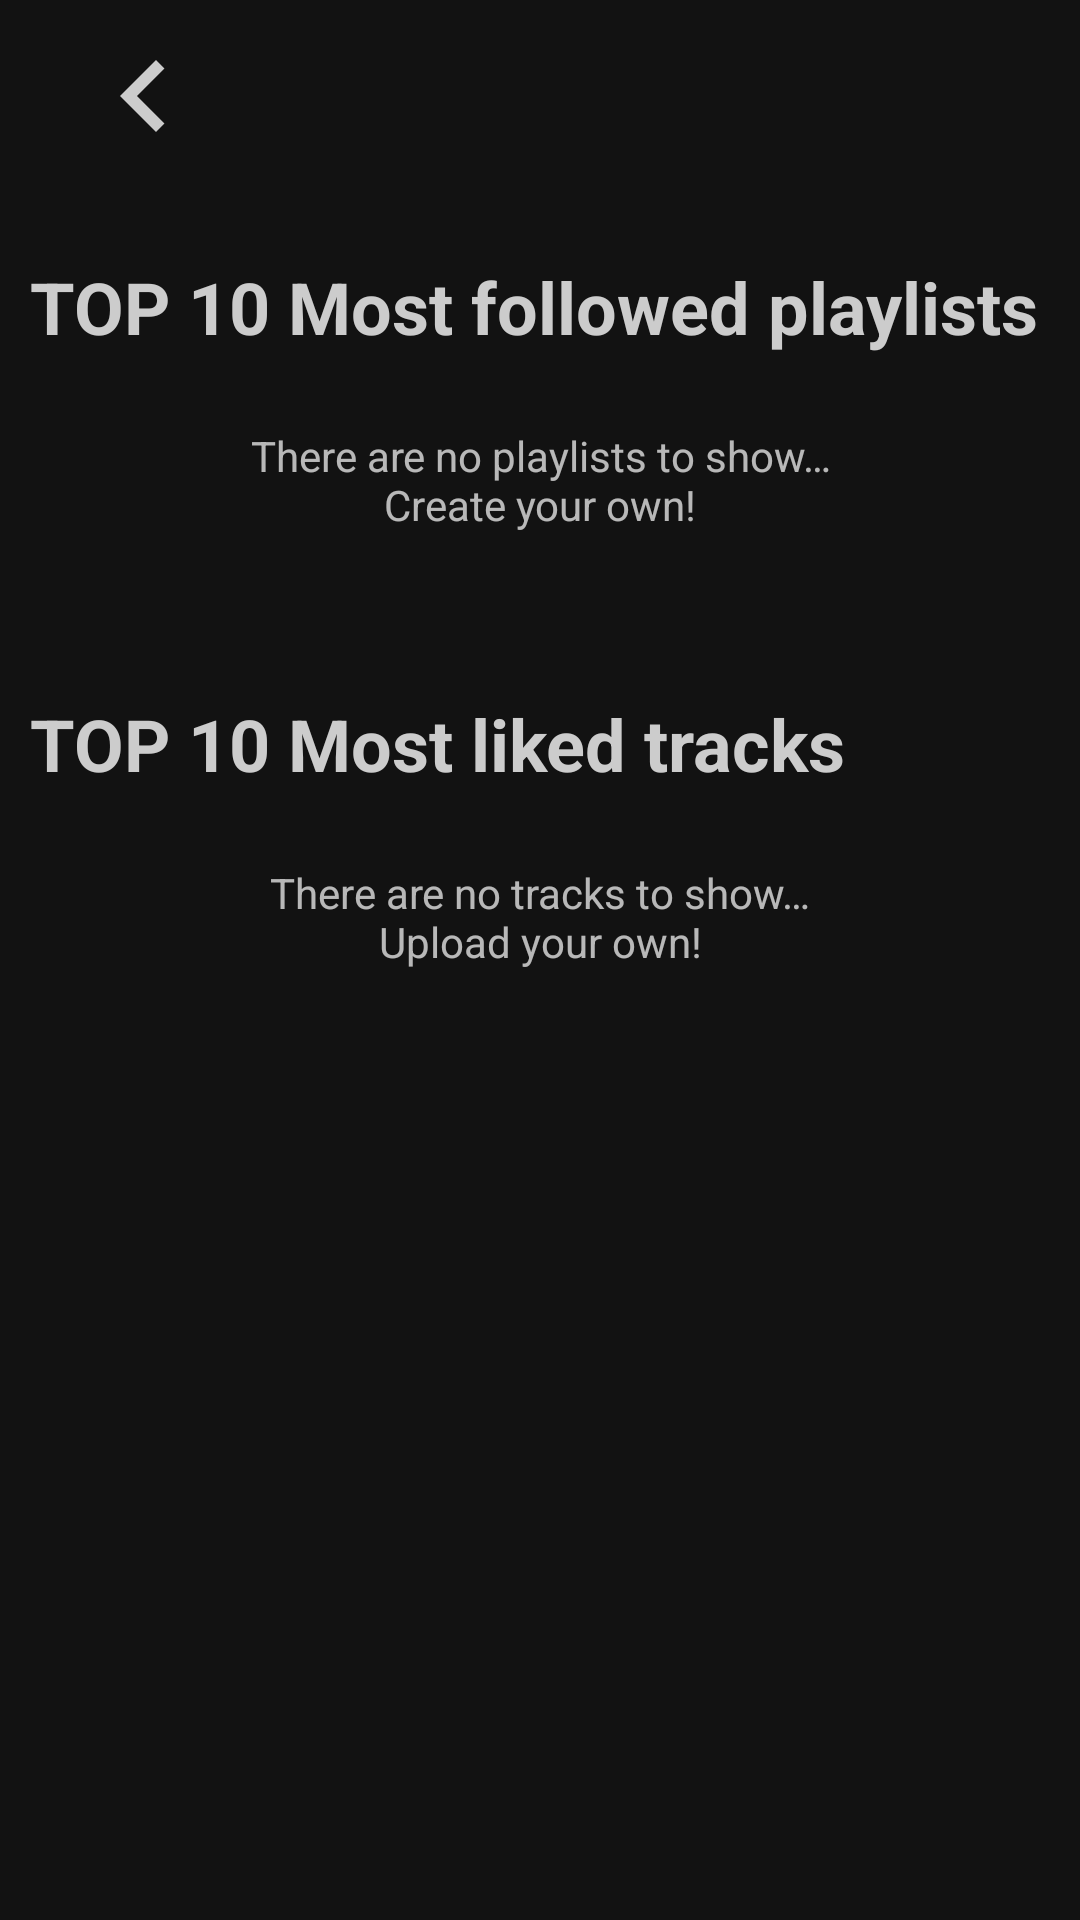

Where to tap for icons on this 1080×1920 app screen, as point (x, y):
back arrow: point (142, 96)
